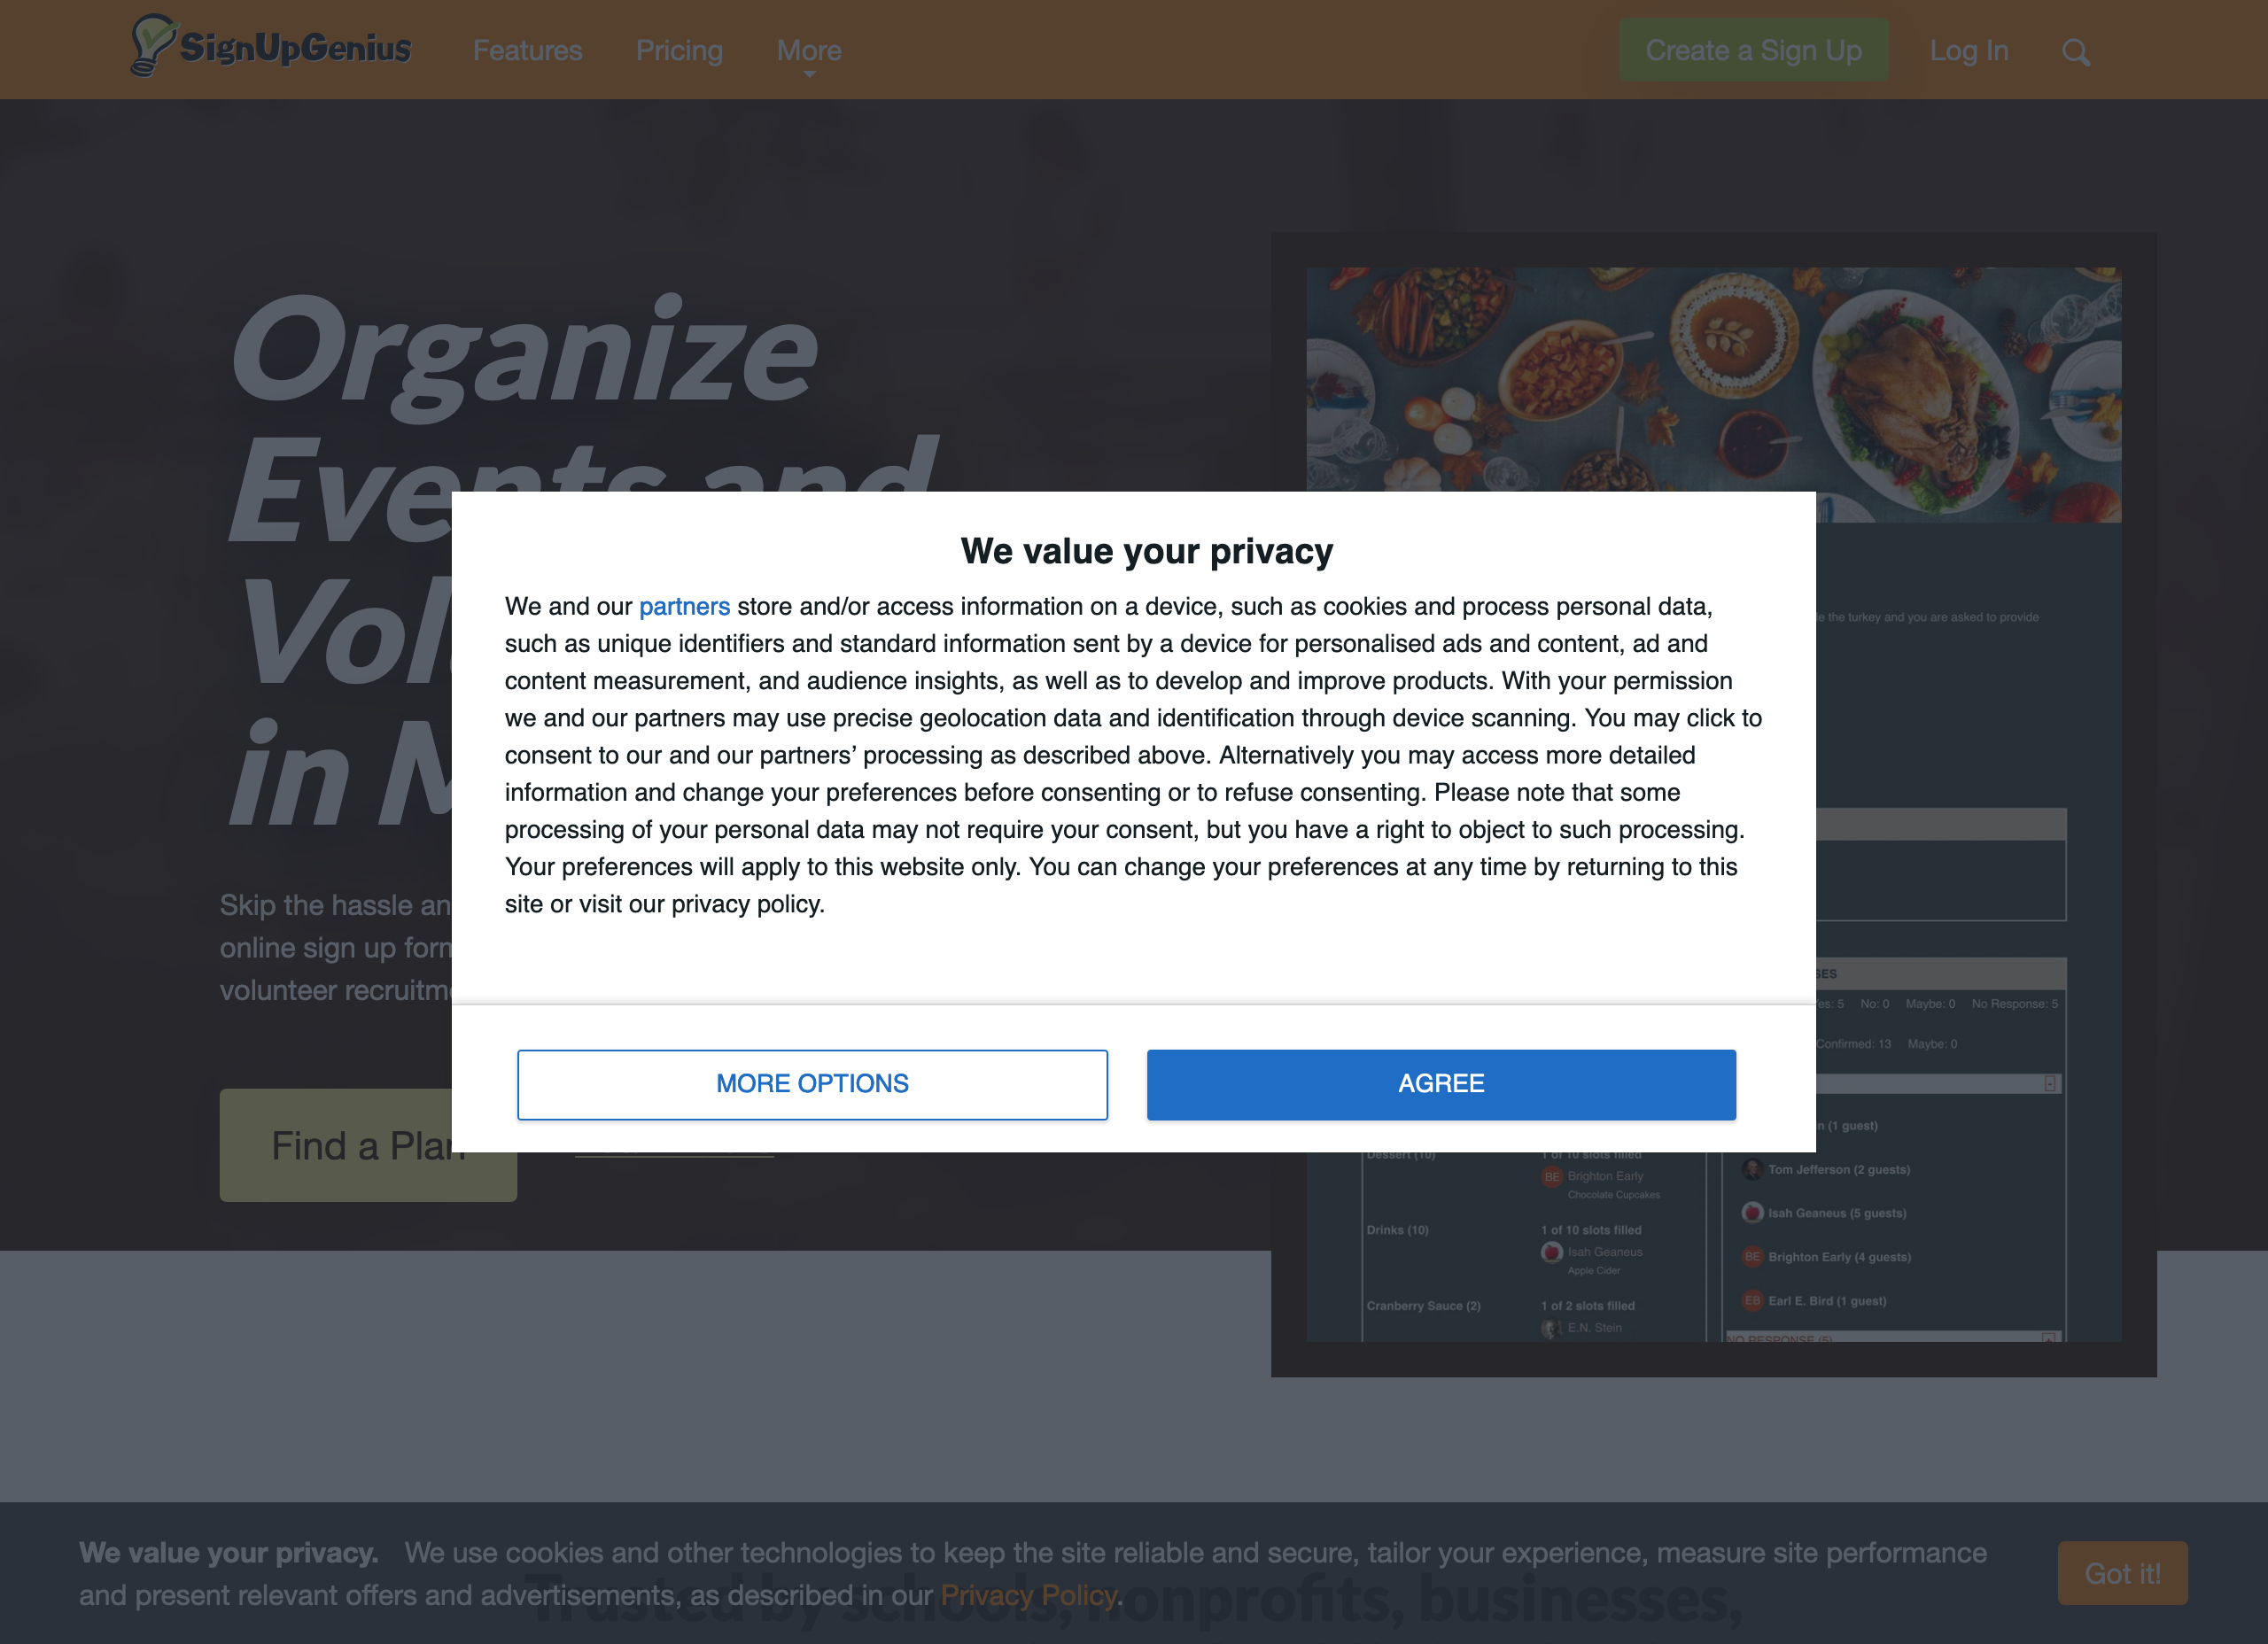Login: (1921, 28, 2025, 79)
